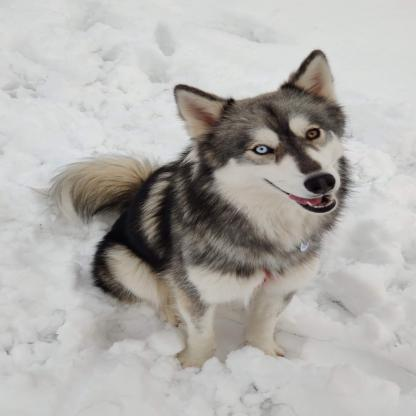dog: (42, 50, 352, 370)
